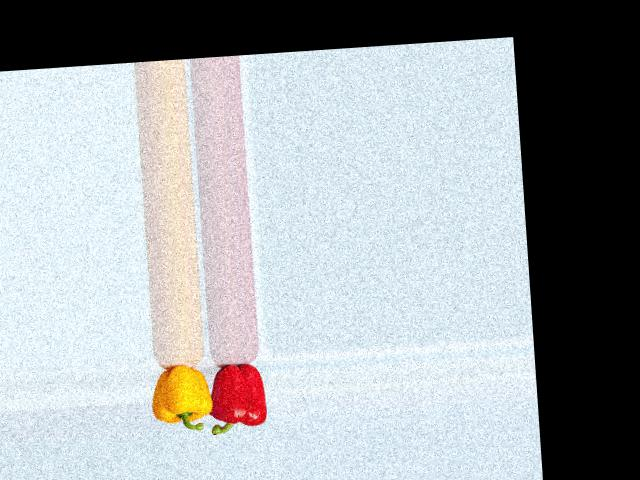bell_pepper: (205, 354, 273, 433)
